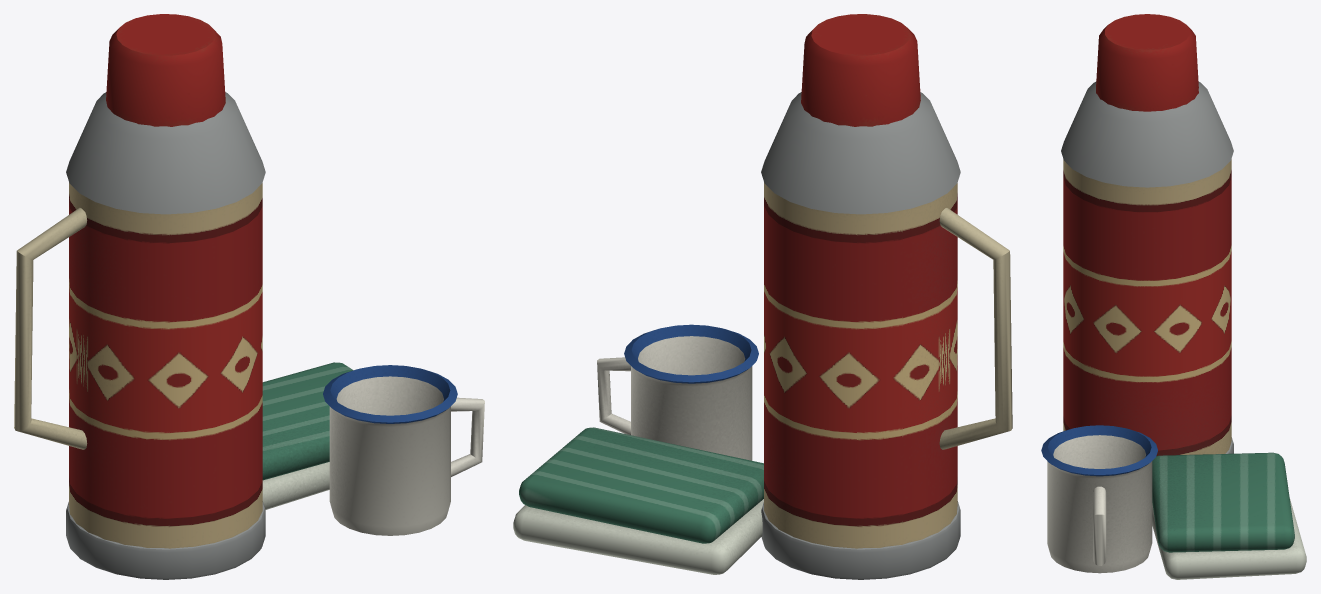
The model's file is CTCC_PROP_ThermosAndMug.fbx.
3 views of the same model, side by side, from view 1: azimuth 30°, elevation 25°; view 2: azimuth 150°, elevation 25°; view 3: azimuth 270°, elevation 25° (orthographic). The views are drawn at different scales.
Visible parts, largest first — view 1: CTCC_PROP_ThermosAndMug_LOD0; view 2: CTCC_PROP_ThermosAndMug_LOD0; view 3: CTCC_PROP_ThermosAndMug_LOD0.
Boxes of the visible parts, x1,y1,x2,y2 form: CTCC_PROP_ThermosAndMug_LOD0: [14, 14, 484, 579]; CTCC_PROP_ThermosAndMug_LOD0: [513, 14, 1012, 579]; CTCC_PROP_ThermosAndMug_LOD0: [1041, 14, 1306, 579].
Size of what is drawn, in the model's own units: 0.3692 by 0.404 by 0.2225.
